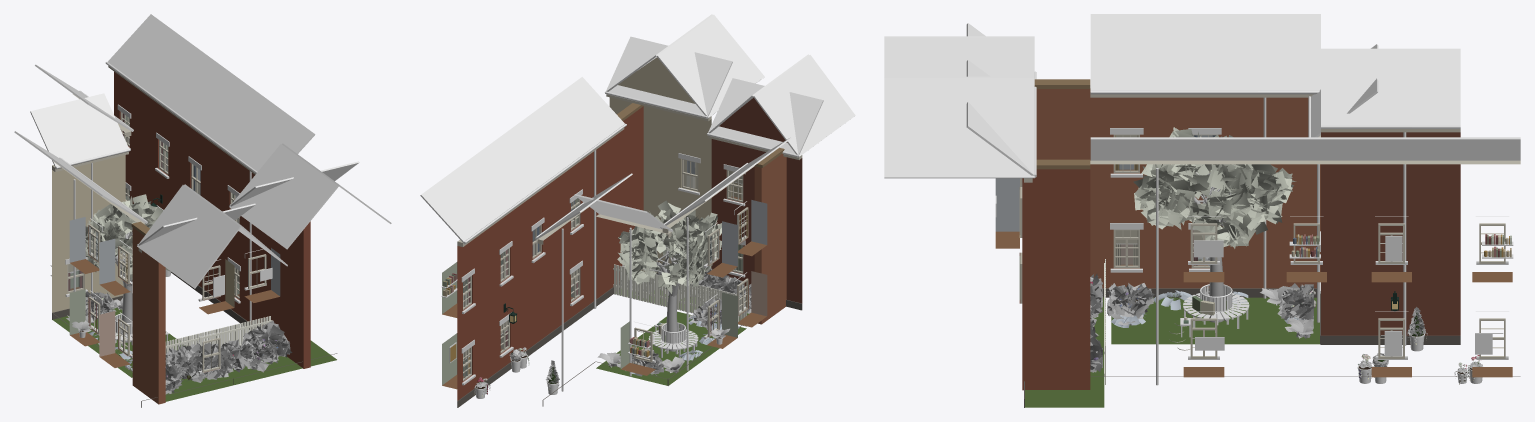
Rendered from alley_library.glb.
3 renders of one model, left to right at view 1: azimuth 30°, elevation 25°; view 2: azimuth 150°, elevation 25°; view 3: azimuth 270°, elevation 25°, orthographic. The views are drawn at different scales.
Parts seen in each view (by area): view 1: alley_library; view 2: alley_library; view 3: alley_library.
Part boxes in pixels (x1,y1,x2,y2): alley_library: (14,14,391,407); alley_library: (420,14,855,407); alley_library: (884,14,1520,407).
Size of what is drawn, in the model's own units: 9.28 by 9.43 by 18.22.
